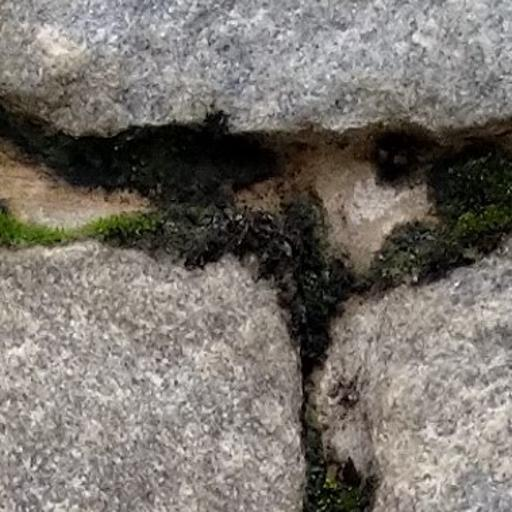algae: (0, 76, 512, 377), (16, 69, 512, 351)
